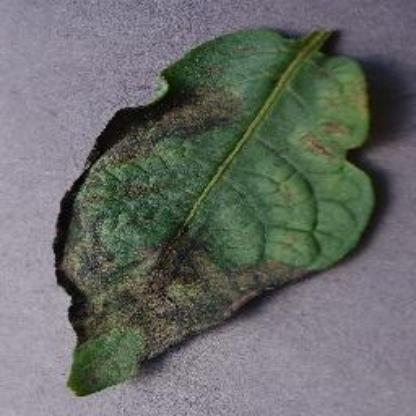Late-Blight: (43, 16, 393, 402)
